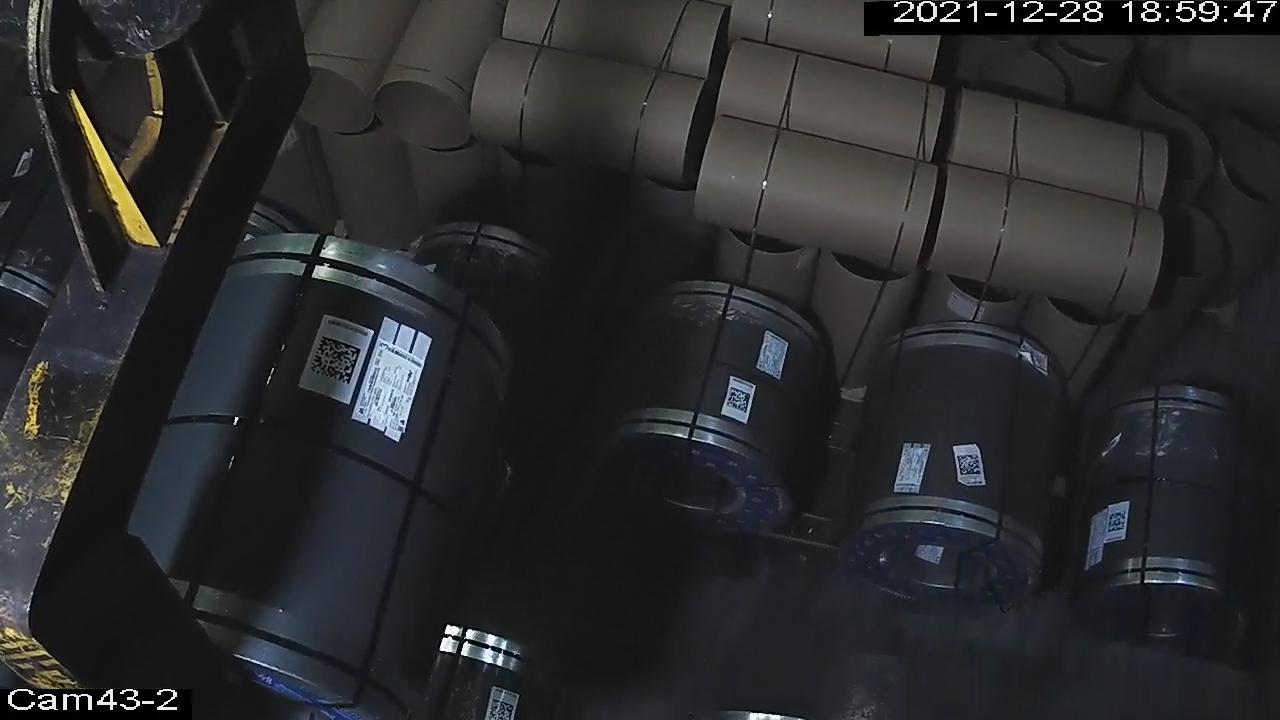data matrix: (305, 334, 370, 389), (723, 386, 755, 416), (954, 452, 987, 481), (1105, 509, 1133, 536)
